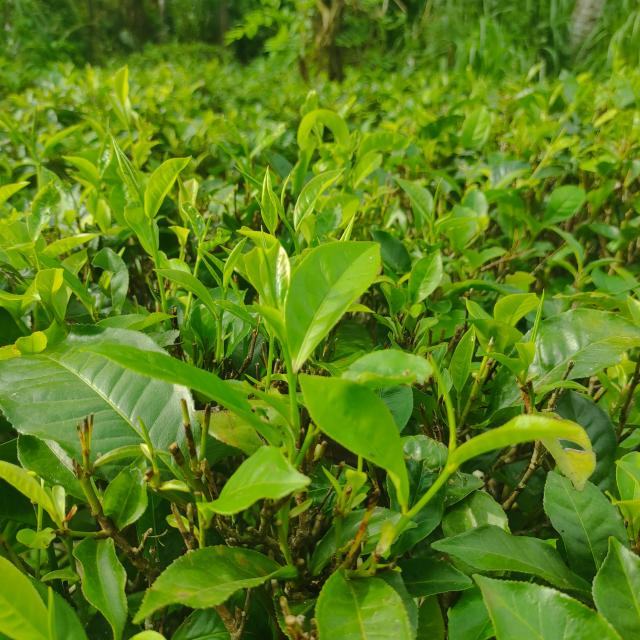unopened_leaf: (422, 345, 464, 460), (105, 136, 152, 207), (255, 228, 286, 312), (189, 244, 227, 292), (131, 405, 161, 462), (527, 282, 550, 345), (426, 172, 450, 230), (42, 580, 61, 640), (273, 172, 294, 214), (198, 210, 222, 245)
